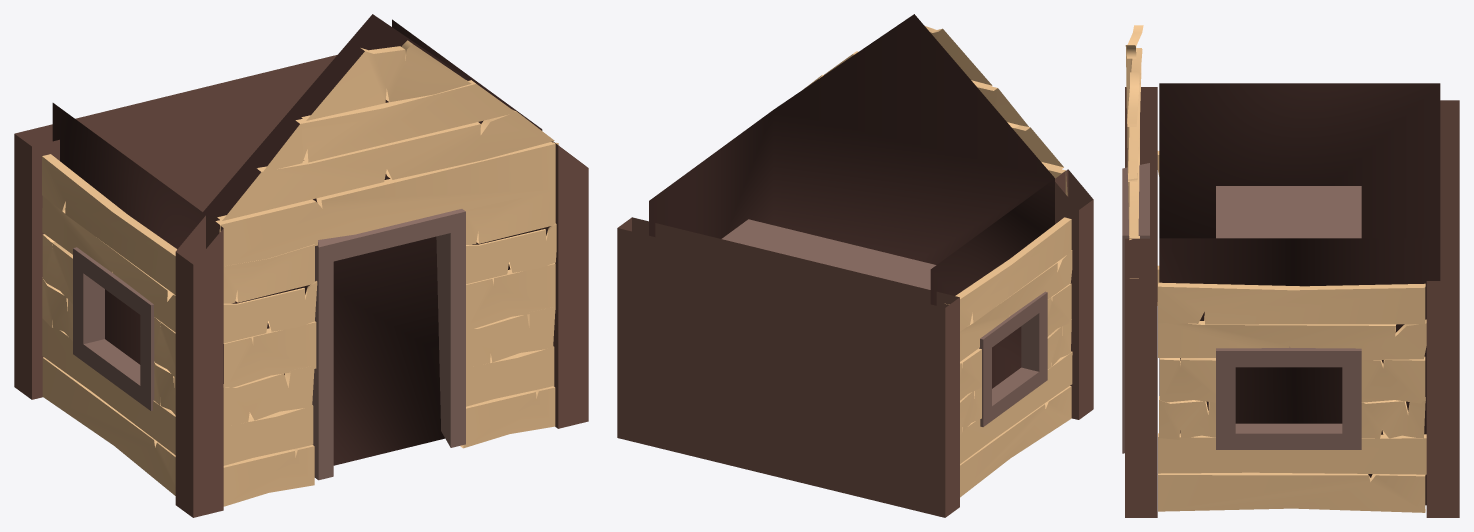
The model's file is Building_Door_002.glb.
The picture shows the model from 3 angles, left to right: view 1: azimuth 30°, elevation 25°; view 2: azimuth 150°, elevation 25°; view 3: azimuth 270°, elevation 25°; orthographic projection. The views are drawn at different scales.
Visible parts, largest first — view 1: Building_Door_002; view 2: Building_Door_002; view 3: Building_Door_002.
Part boxes in pixels (box(x1,y1,x2,y2)): Building_Door_002: box(14, 14, 588, 517); Building_Door_002: box(617, 14, 1093, 517); Building_Door_002: box(1122, 25, 1459, 517).
Bounding box in the file's own units: 7.12 × 7.61 × 5.62.
1 material, 1 textured.
